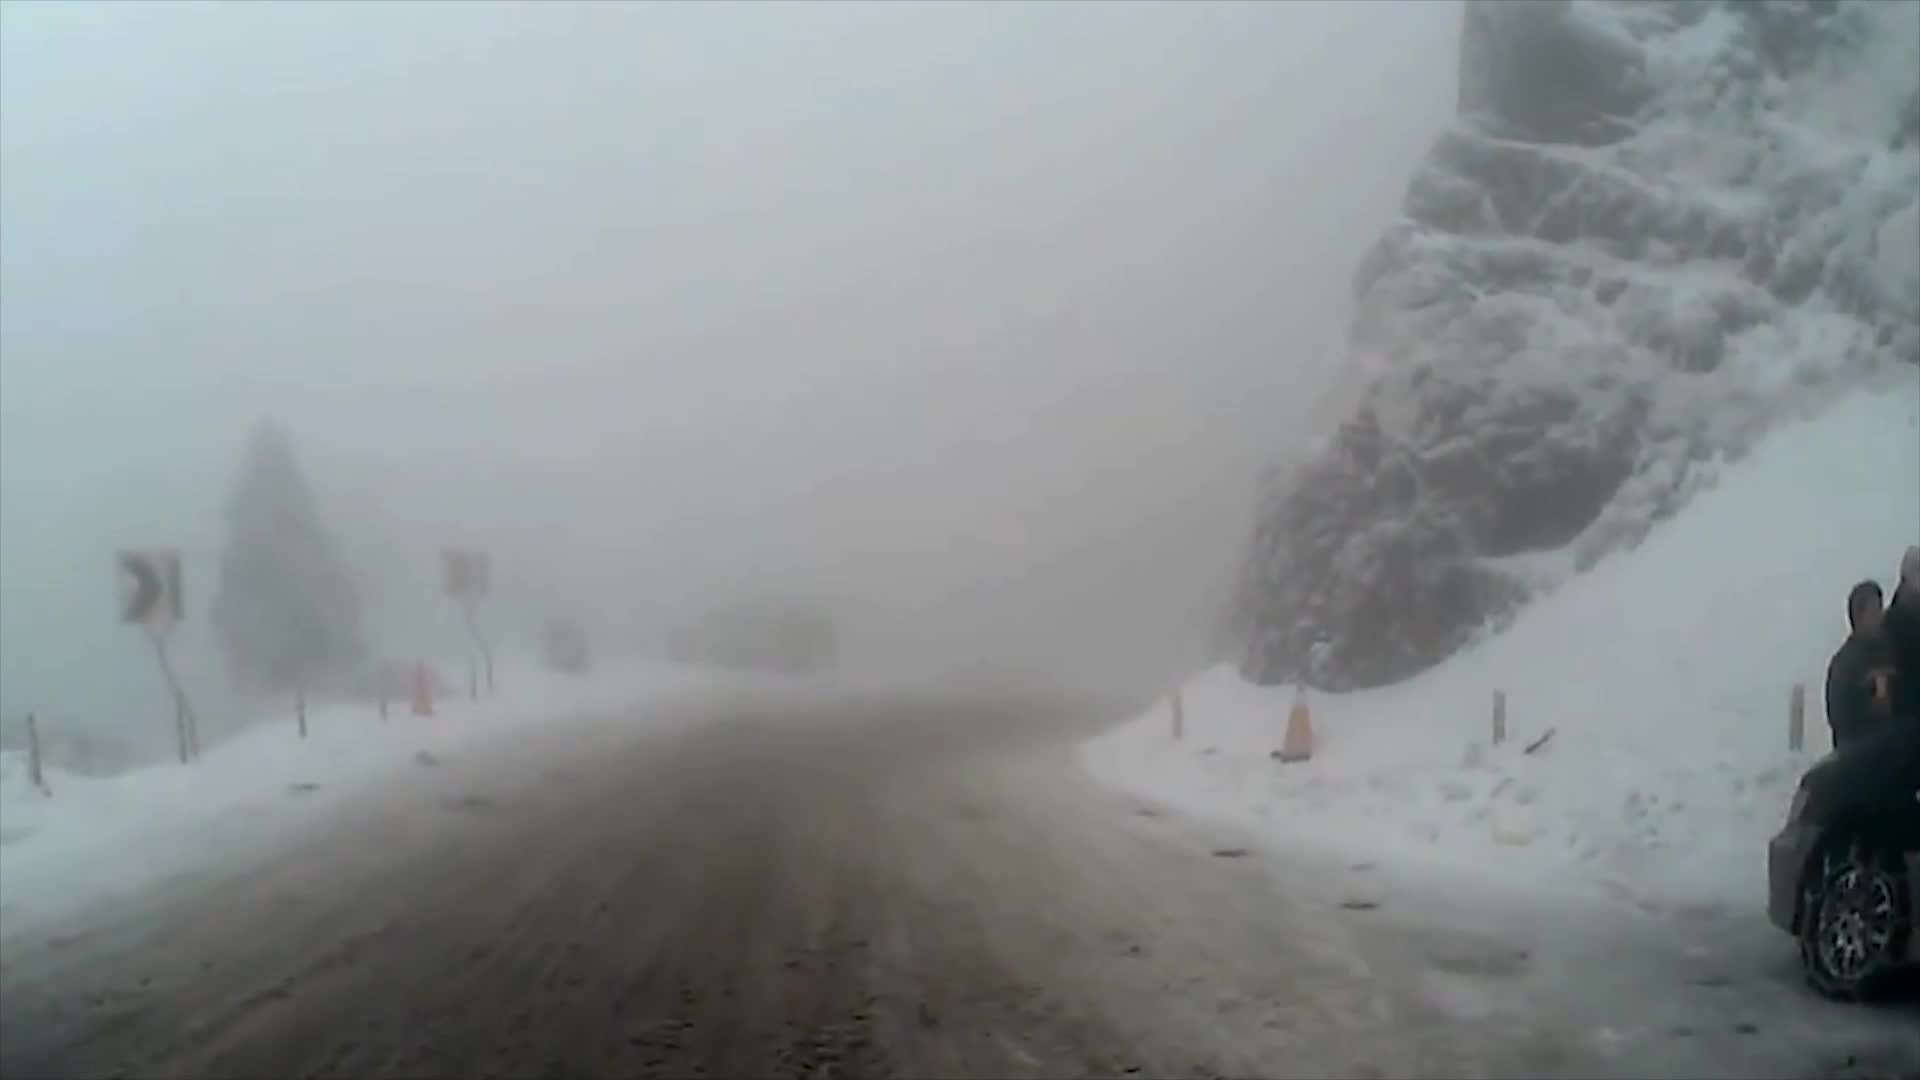pedestrian: (1824, 582, 1914, 911)
vehicle: (1762, 700, 1919, 1004)
